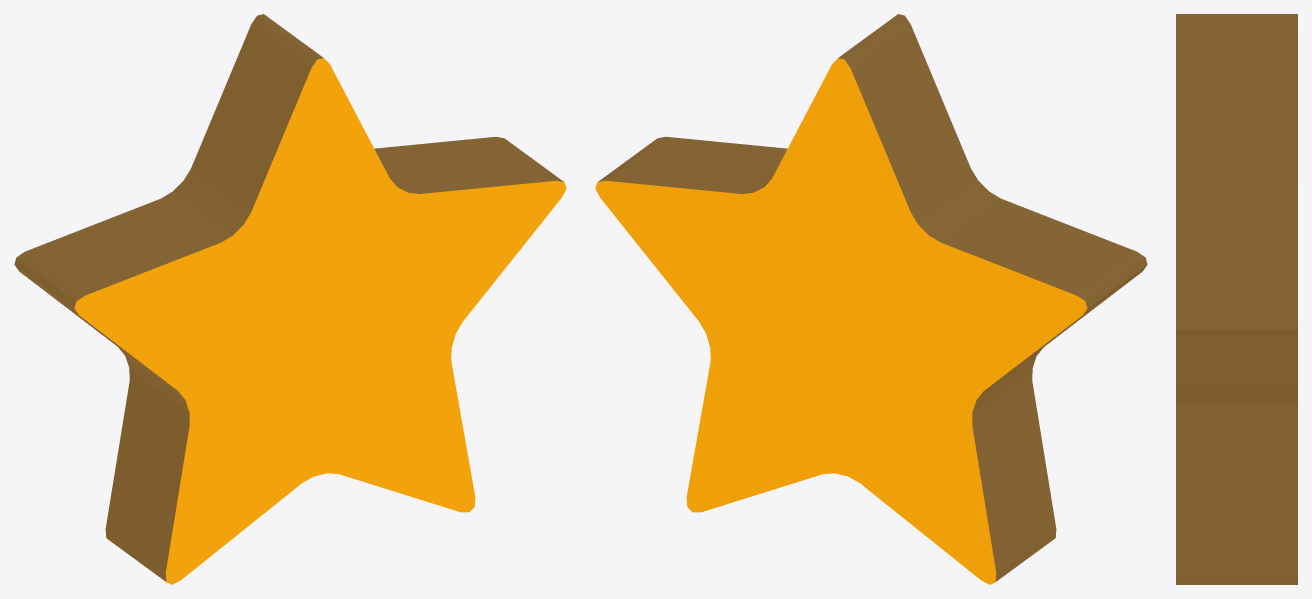
Rendered from starThick.glb.
The picture shows the model from 3 angles, left to right: view 1: azimuth 30°, elevation 25°; view 2: azimuth 150°, elevation 25°; view 3: azimuth 270°, elevation 25°; orthographic projection.
Visible parts, largest first — view 1: Circle; view 2: Circle; view 3: Circle.
Part boxes in pixels (x1,y1,x2,y2): Circle: (14, 14, 566, 584); Circle: (595, 14, 1147, 584); Circle: (1176, 14, 1297, 584).
Size of the model in its own units: 1.83 by 1.74 by 0.3862.
